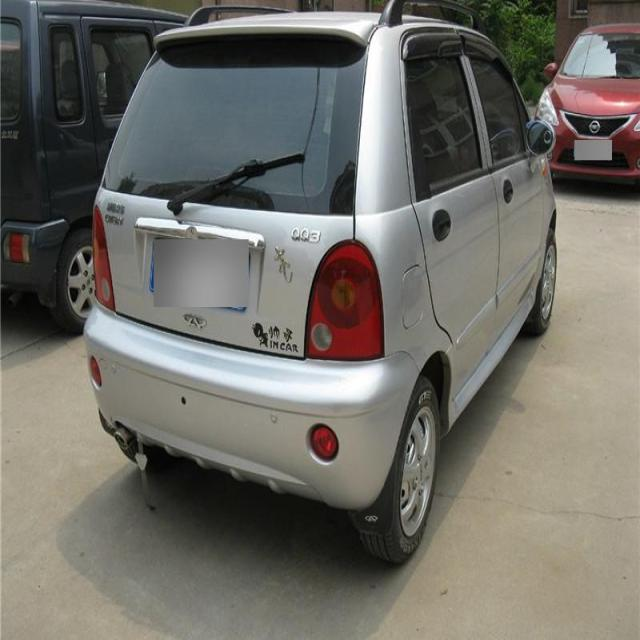back_glass: (98, 32, 368, 215)
back_left_side_light: (88, 214, 117, 314)
back_right_side_light: (301, 234, 387, 362)
door: (396, 34, 503, 376)
front_right_side_door: (454, 22, 543, 362)
front_right_side_mirror: (525, 119, 556, 159)
rear_bumper: (82, 304, 424, 511)
wheel: (360, 379, 440, 561), (528, 233, 558, 334)
